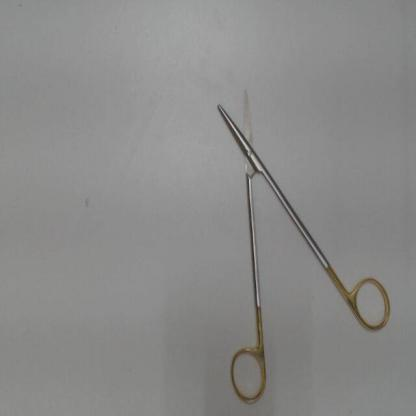7 Metzenbaum Scissors: (209, 82, 394, 409)
